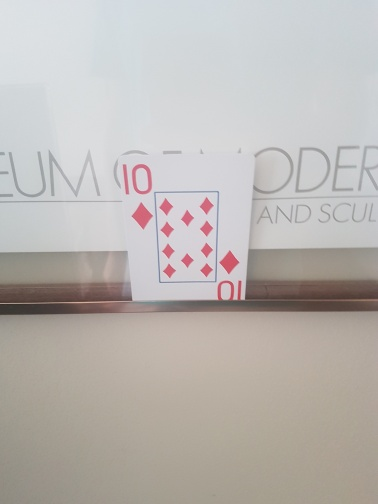ten: (117, 155, 257, 299)
